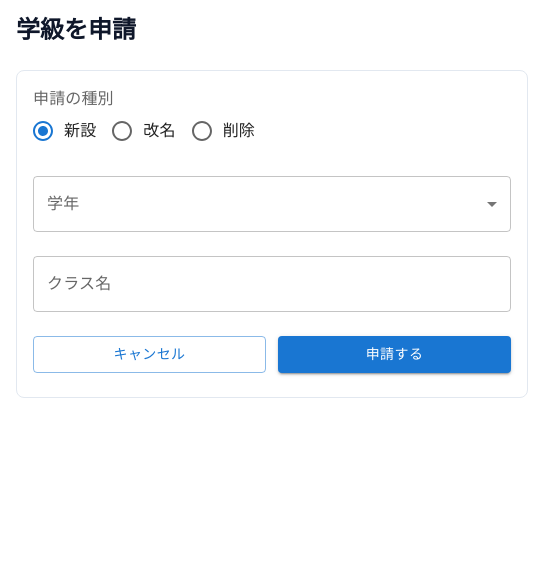
Test case: teacher/CreateSchoolClassRequest Presenter › 未入力で送信すると項目ごとのエラーを出し、送信しない
The width and height of the screenshot is (545, 563).
What coordinates should you click on to do the following:
click the radio button labelled "改名"
I would click on:
 (143, 131)
Its box is [110, 119, 176, 143].
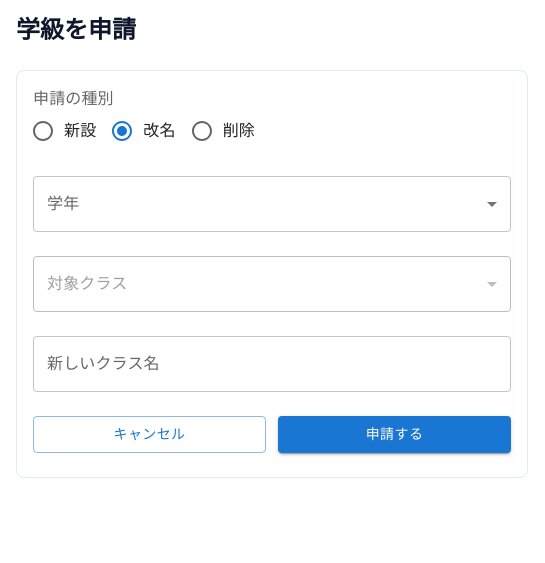
What coordinates should you click on to do the following:
click the button "申請する"
I would click on:
 (394, 434)
Its box is [278, 416, 511, 452].
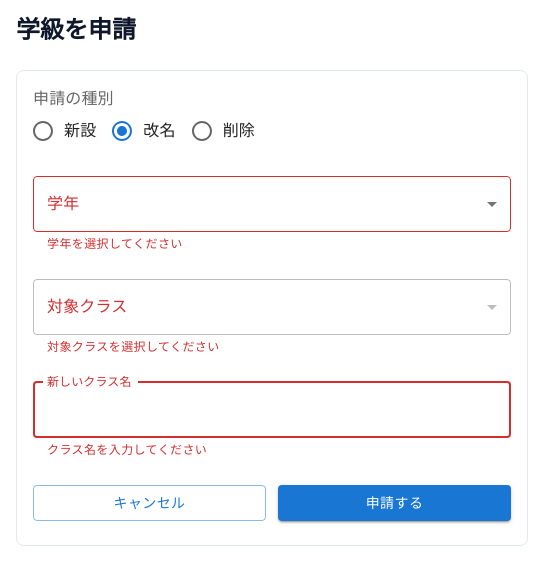
Expected: the text "学年を選択してください" is shown, [47, 237, 183, 251]
Expected: the text "対象クラスを選択してください" is shown, [47, 340, 220, 354]
Expected: the text "クラス名を入力してください" is shown, [47, 443, 207, 457]
